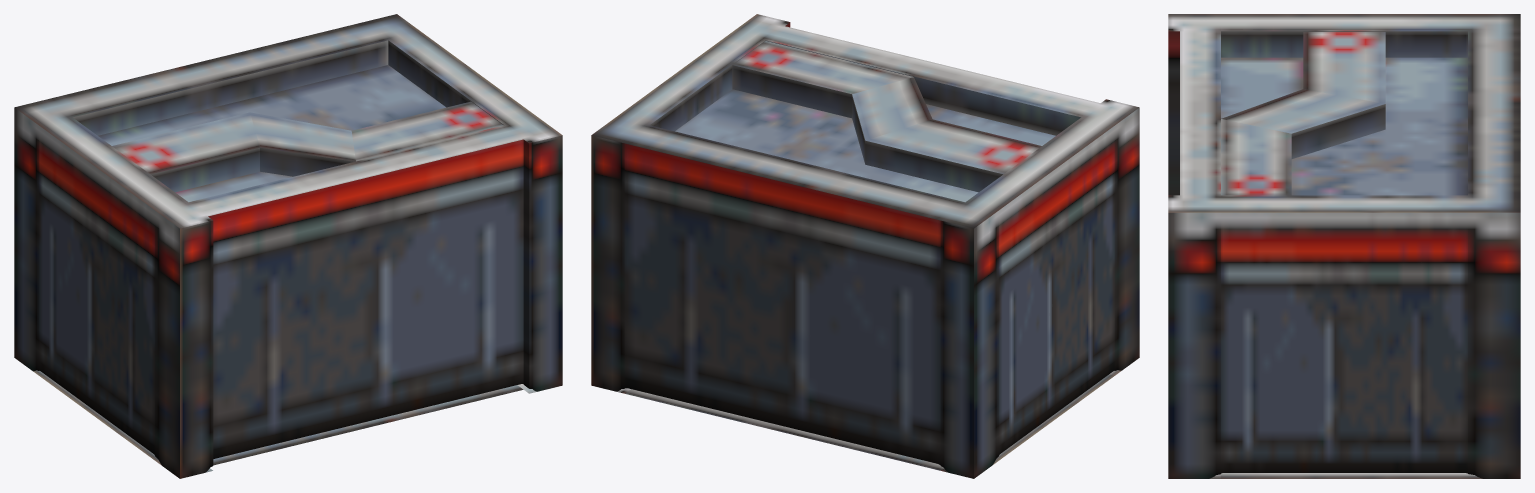
The model's file is Poly_SF_Outside_B_Shipping_Container_01.obj.
The picture shows the model from 3 angles, left to right: view 1: azimuth 30°, elevation 25°; view 2: azimuth 150°, elevation 25°; view 3: azimuth 270°, elevation 25°; orthographic projection. The views are drawn at different scales.
Parts seen in each view (by area): view 1: Cube.001, Cube.002; view 2: Cube.001, Cube.002; view 3: Cube.001, Cube.002.
Part boxes in pixels (x1,y1,x2,y2): Cube.001: [14, 14, 562, 478]; Cube.002: [112, 101, 503, 192]; Cube.001: [591, 14, 1139, 478]; Cube.002: [732, 41, 1041, 192]; Cube.001: [1168, 14, 1520, 478]; Cube.002: [1221, 32, 1385, 195].
Size of the model in its own units: 0.8 by 0.5 by 0.6.
1 material, 1 textured.
